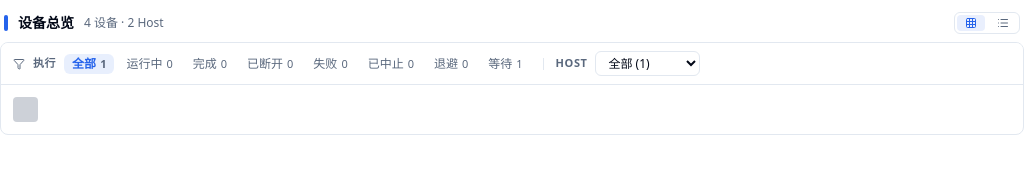
Test case: DeviceOverview › shows pending claim SLA in wait column
Click the button with test id "device-overview-table-btn" at {"x": 1003, "y": 23}, box [989,15,1017,31]
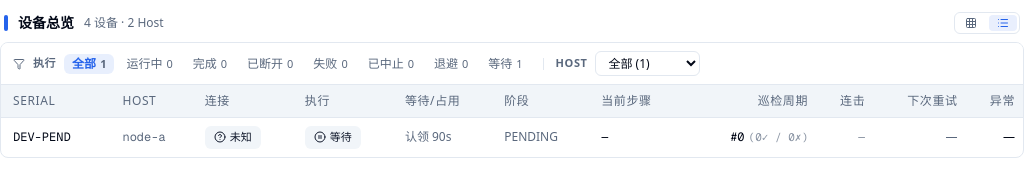
Expected: the cell with test id "device-wait-3010" reads "认领 90s", [405,128,452,145]
